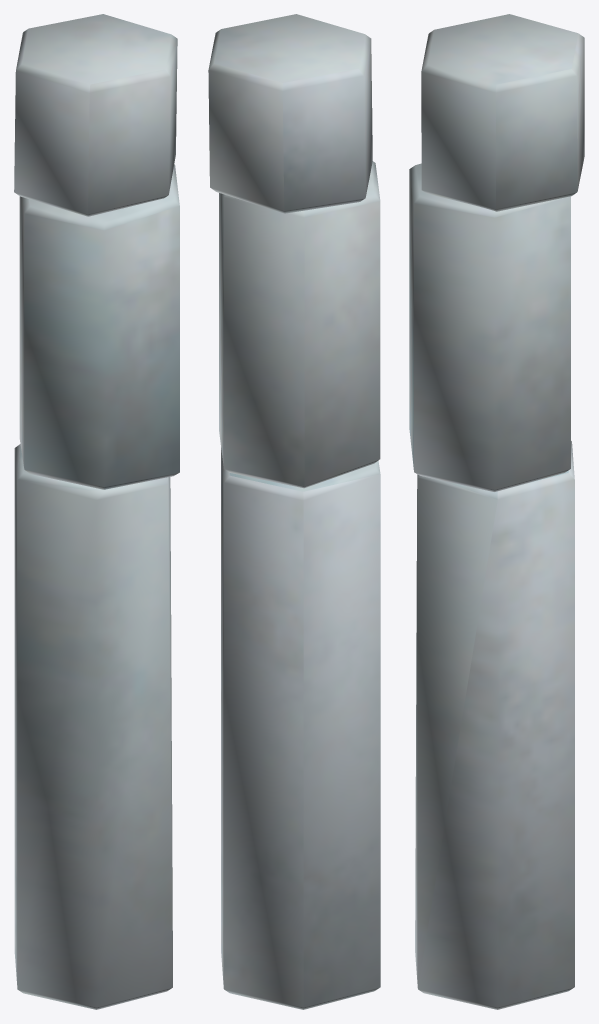
Rendered from P_RockHexic_Piece16.obj.
The picture shows the model from 3 angles, left to right: view 1: azimuth 30°, elevation 25°; view 2: azimuth 150°, elevation 25°; view 3: azimuth 270°, elevation 25°; orthographic projection.
Bounding box in the file's own units: 3.74 × 20.33 × 3.48.
